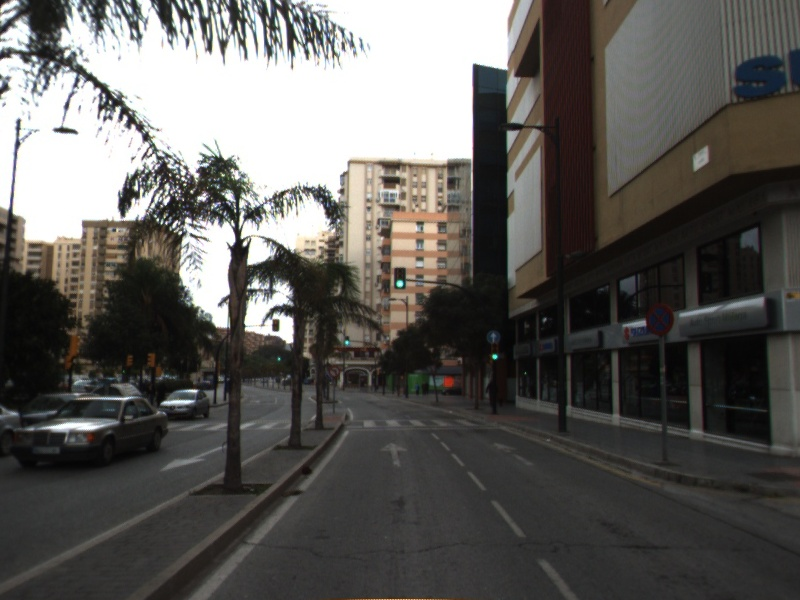STRAIGHT: (492, 440, 537, 467), (378, 440, 411, 469)
